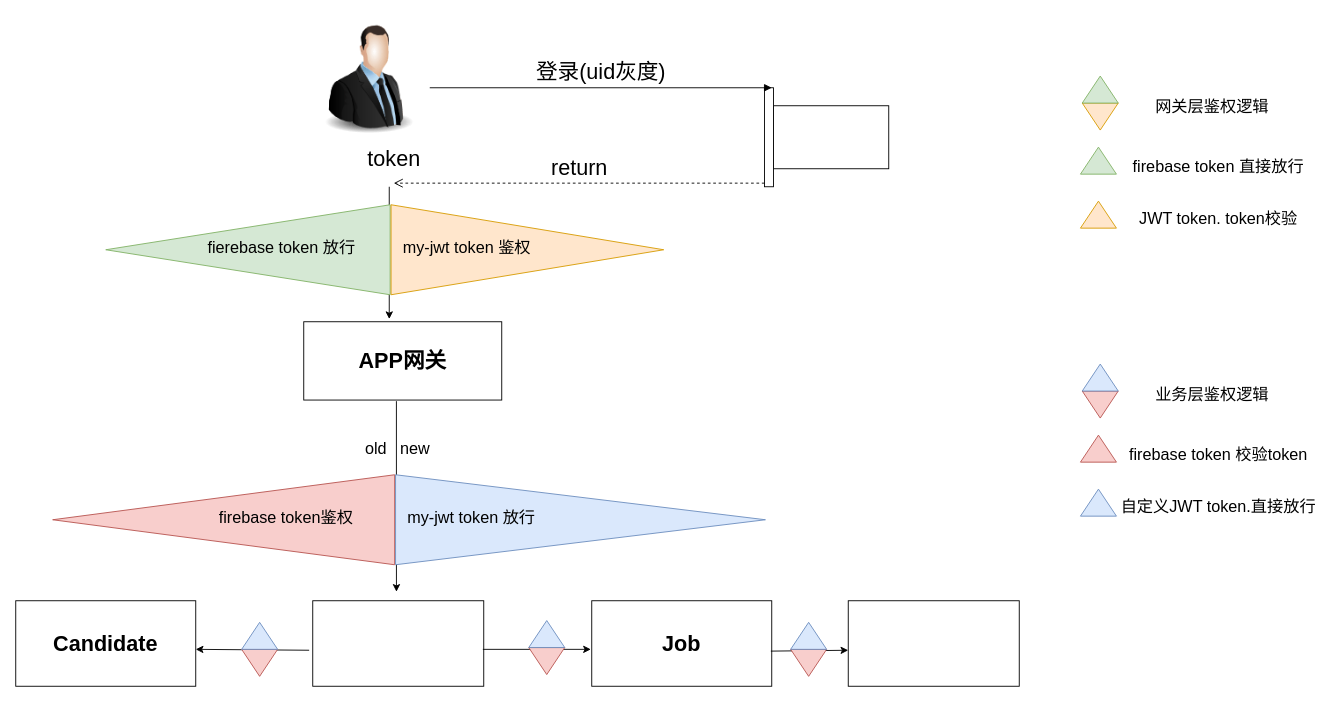
This 1337x702 diagram has some shape labels left out. Each missing label, with the box of its shape:
Company: (847, 600, 1019, 686)
Recruiter: (312, 600, 484, 686)
授权服务: (773, 105, 889, 169)
